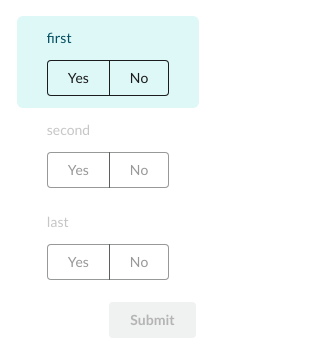
it: AnsweringChecks Component › Answering with Yes should enable next Check
Click the button "Yes" below "first" at [78, 78], box x1=47 y1=60 x2=110 y2=96
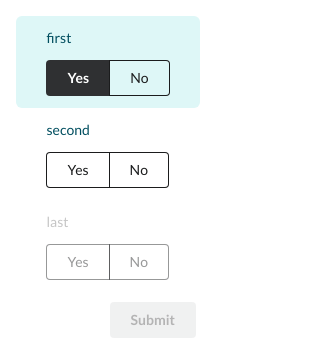
Check: the button "Yes" below "second" is enabled, box x1=46 y1=152 x2=110 y2=188
Check: the button "No" below "second" is enabled, box x1=109 y1=152 x2=169 y2=188
